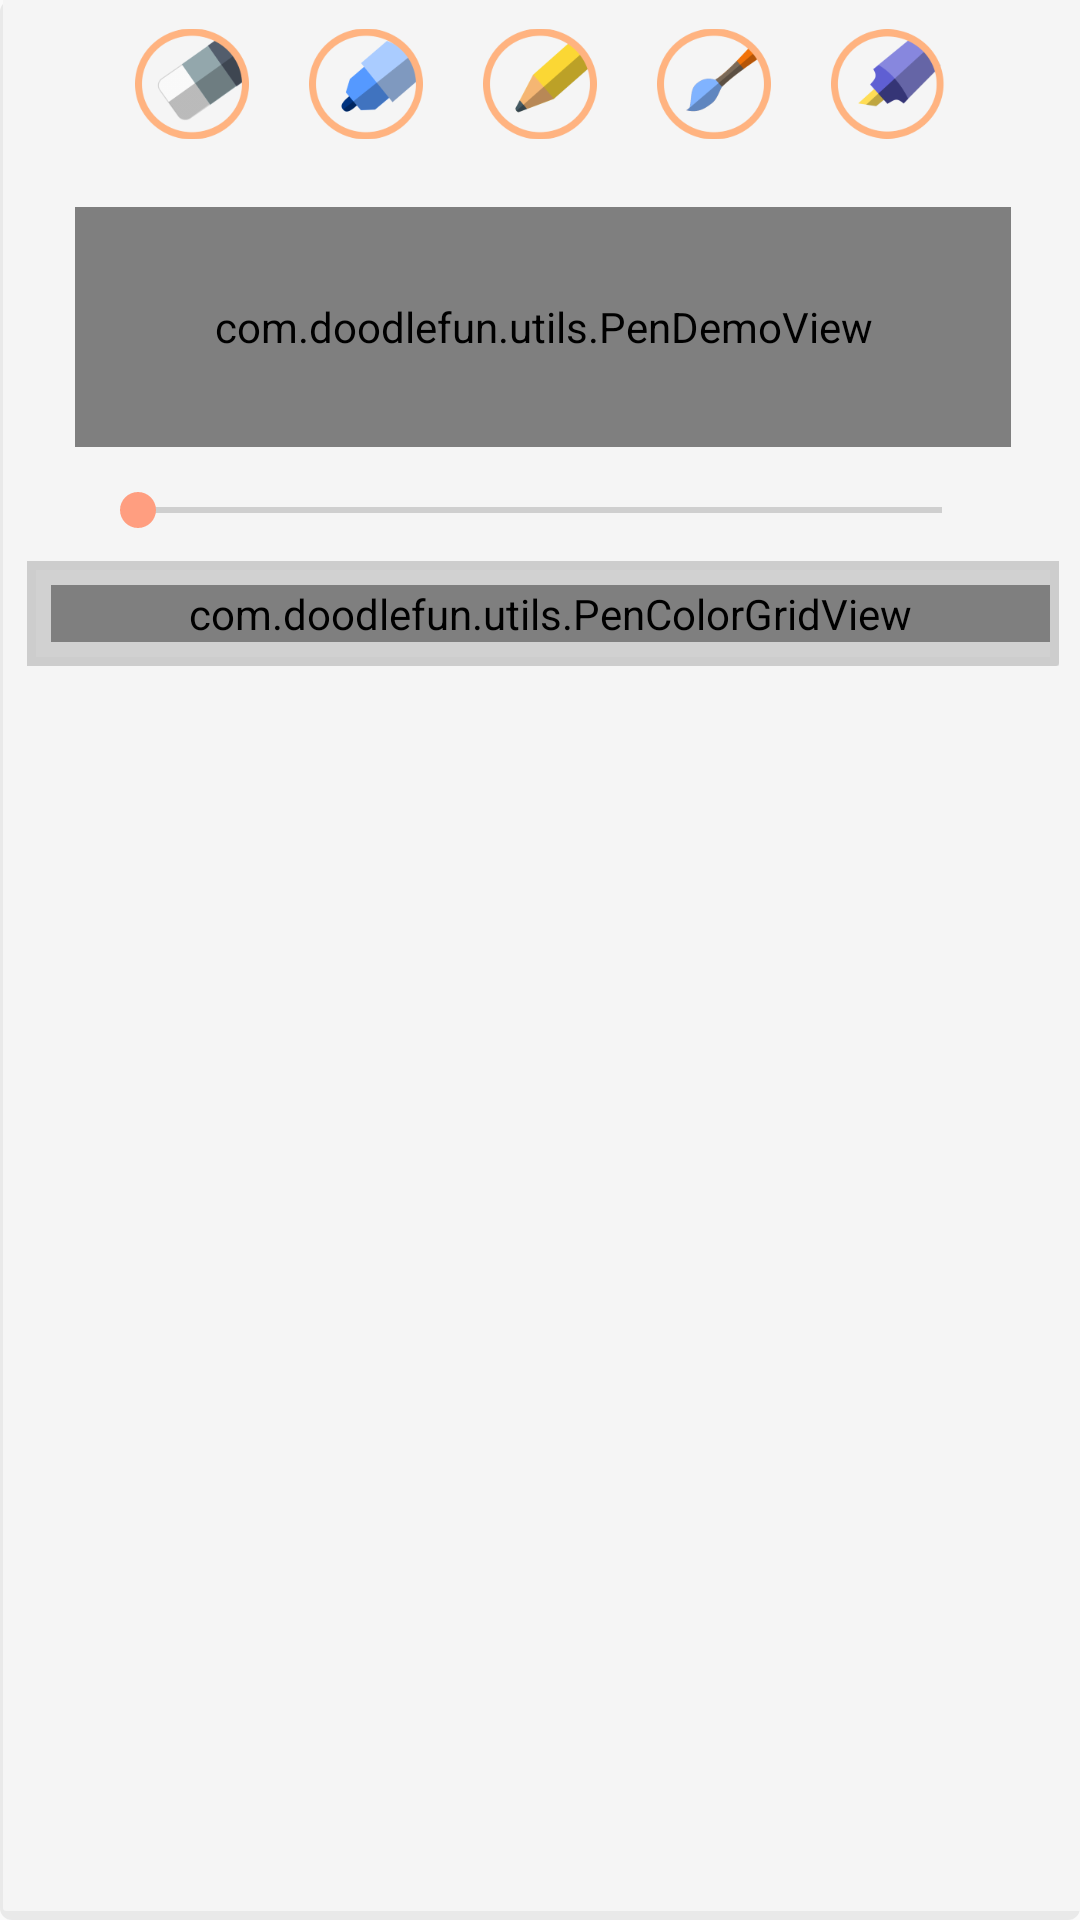

Where to tap for icons on this 1080w x 1920h app screen, as (x,y):
Brush: (714,84)
Eraser: (192,84)
Highlighter: (887,84)
Pencil: (540,84)
